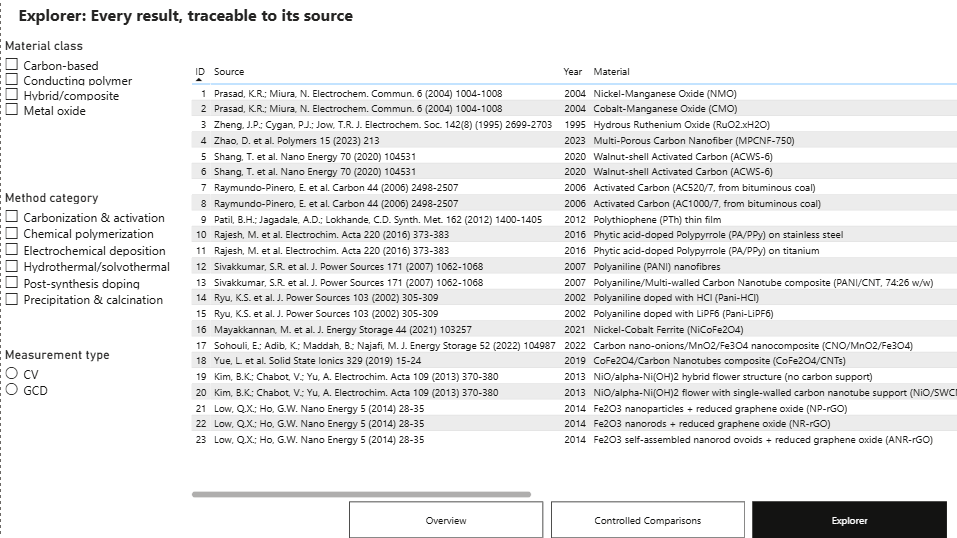

This screenshot's page, from the dashboard's own definition file:
{"tool":"powerbi","page":{"name":"Explorer","canvas":[1280,720],"ordinal":3},"visuals":[{"type":"tableEx","fields":{"Values":["performance_results.result_id","sources.citation","sources.year","materials.material_name","materials.material_class","synthesis_methods.method_category","synthesis_methods.synthesis_temp_K","test_conditions.measurement_type","test_conditions.measurement_value","test_conditions.measurement_unit","test_conditions.electrolyte","performance_results.Avg Capacitance (F/g)"]},"box":[232.4,51,1031.8,591.5],"z":0},{"type":"textbox","box":[18.9,0,540.5,51],"z":1000},{"type":"listSlicer","fields":{"Values":["synthesis_methods.method_category"]},"box":[0,253.2,247.6,211.7],"z":2000},{"type":"listSlicer","fields":{"Values":["test_conditions.measurement_type"]},"box":[0,464.9,185.2,200.3],"z":3000},{"type":"listSlicer","fields":{"Values":["materials.material_class"]},"box":[0,51,196.5,194.6],"z":4000},{"type":"pageNavigator","box":[464.9,670.9,799.4,49.1],"z":5000}]}

Visuals, with their boxes in screenshot pixels (x1, y1, x2, y2), scaled from the page's 1280x720 canvas onto the 957x538 screenshot:
tableEx - performance_results.result_id x sources.citation: 174,38,945,480
textbox: 14,0,418,38
listSlicer - synthesis_methods.method_category: 0,189,185,347
listSlicer - test_conditions.measurement_type: 0,347,138,497
listSlicer - materials.material_class: 0,38,147,184
pageNavigator: 348,501,945,537
